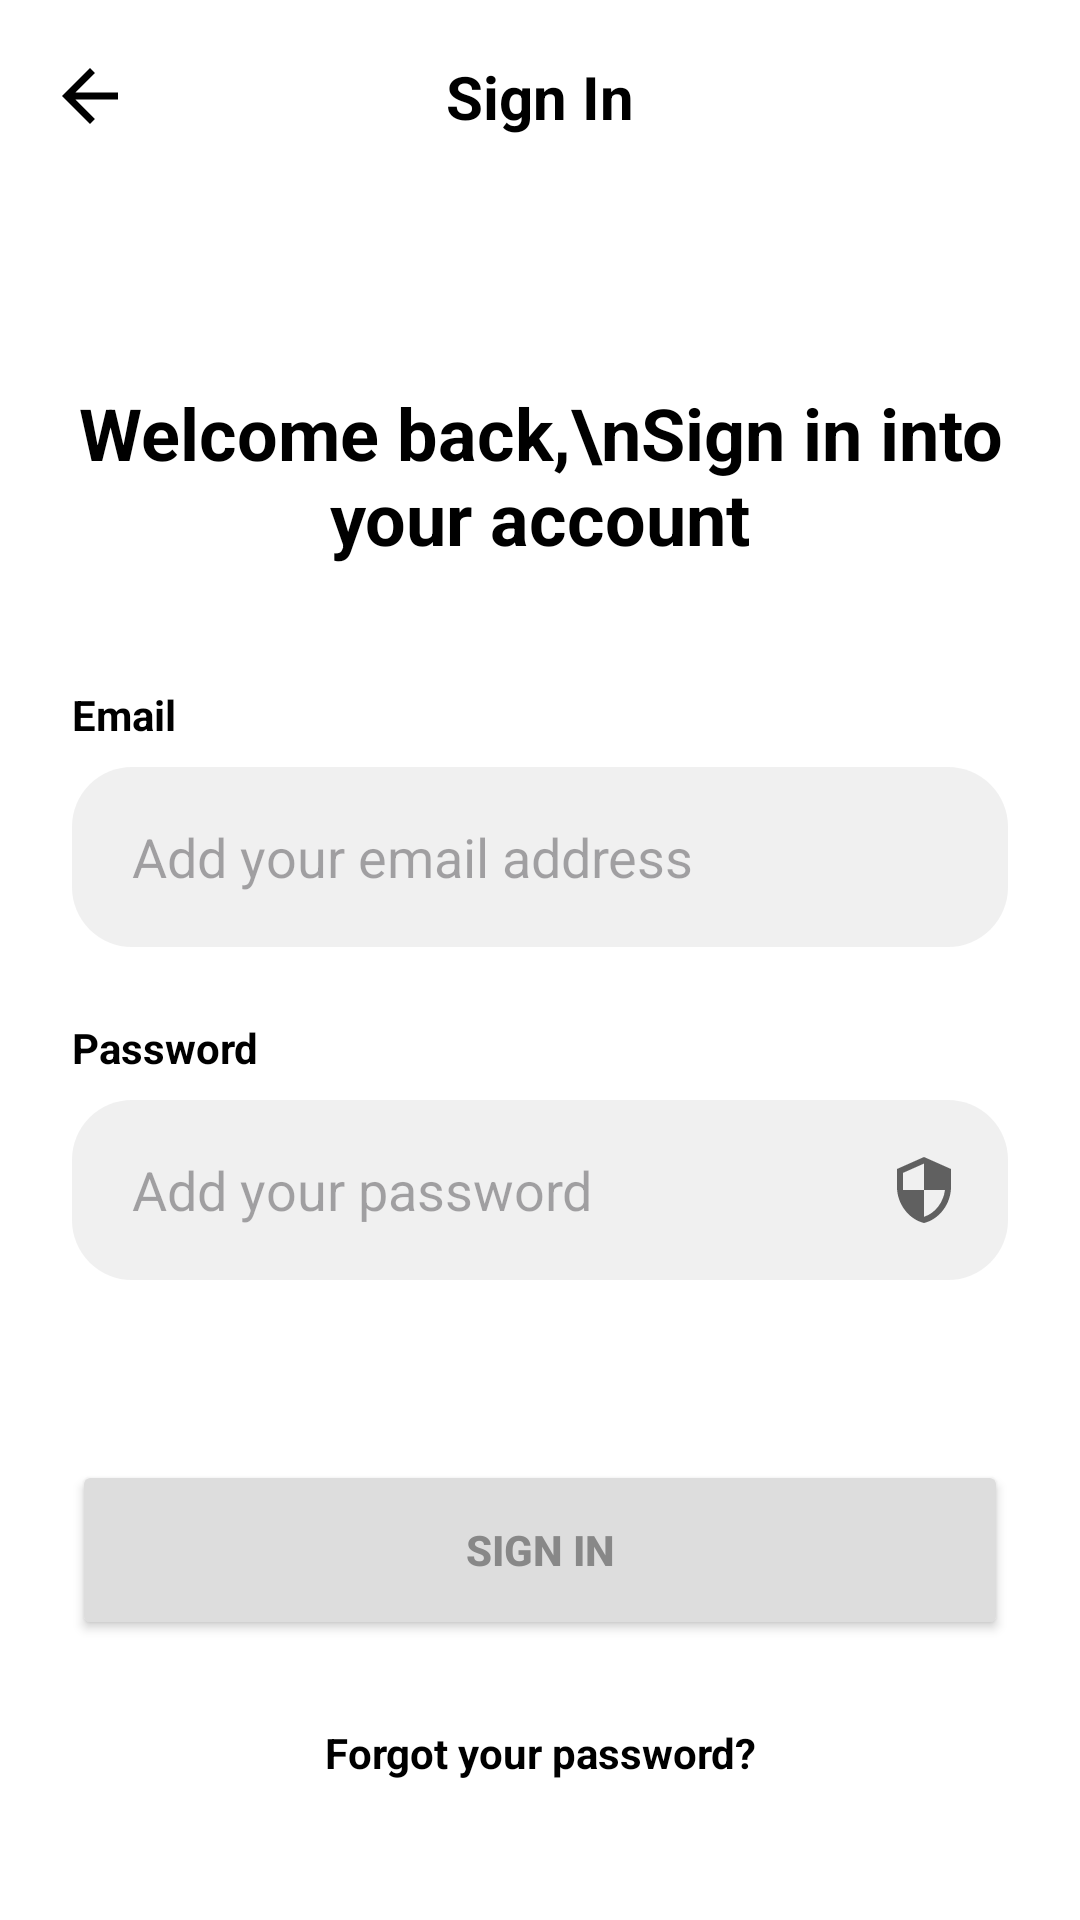

Screen size 1080px x 1920px. Icon name, then its box in pixels as [x1, y1, x2, y2]:
arrow back: [62, 68, 118, 124]
security: [897, 1157, 951, 1223]
